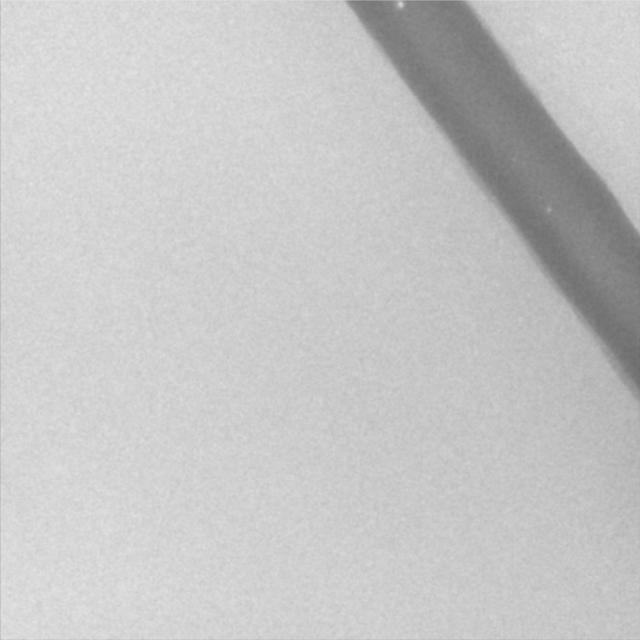air hole: (545, 204, 553, 215)
